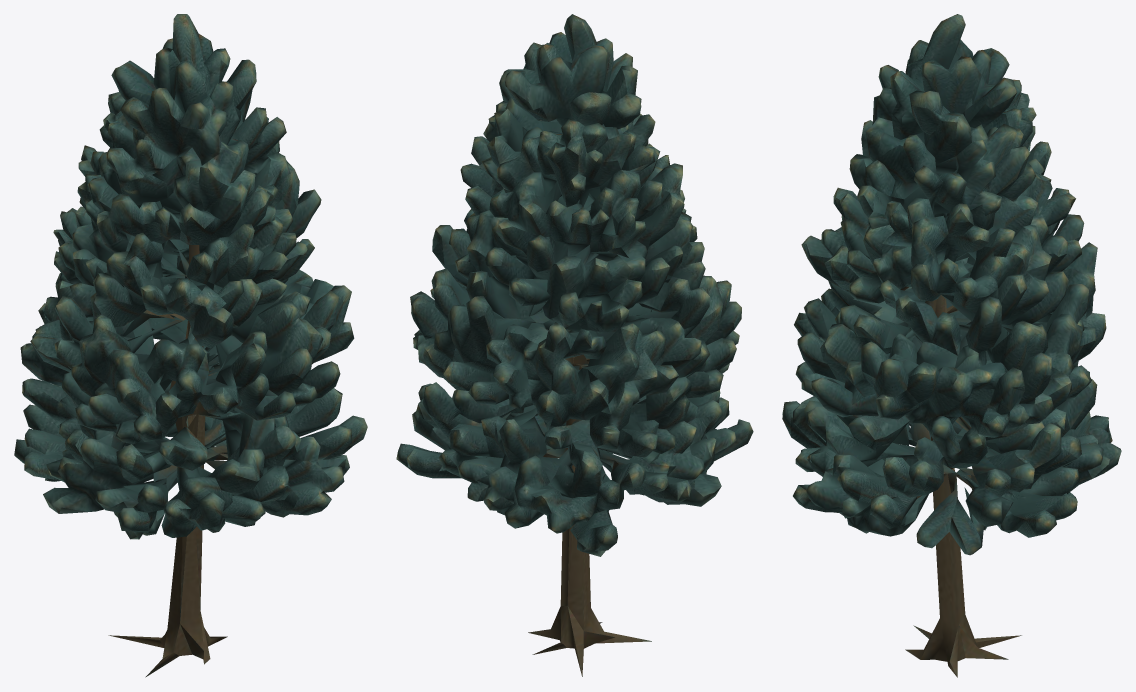
Rendered from pine.glb.
The picture shows the model from 3 angles, left to right: view 1: azimuth 30°, elevation 25°; view 2: azimuth 150°, elevation 25°; view 3: azimuth 270°, elevation 25°; orthographic projection. The views are drawn at different scales.
Parts seen in each view (by area): view 1: Mesh_0; view 2: Mesh_0; view 3: Mesh_0.
Part boxes in pixels (x1,y1,x2,y2): Mesh_0: [14, 14, 367, 677]; Mesh_0: [396, 14, 753, 676]; Mesh_0: [782, 14, 1121, 677].
Bounding box in the file's own units: 0.8945 × 1.89 × 0.9076.
Materials: 1 (1 with a texture image).
